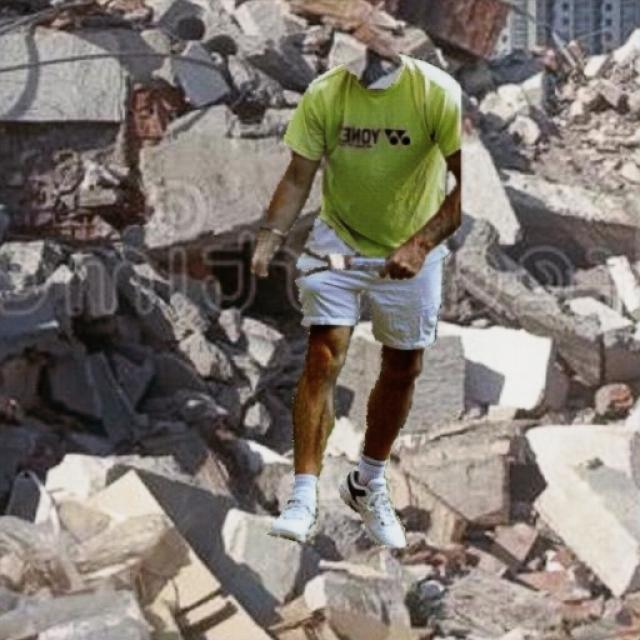Person in Rubble: (251, 52, 460, 546)
